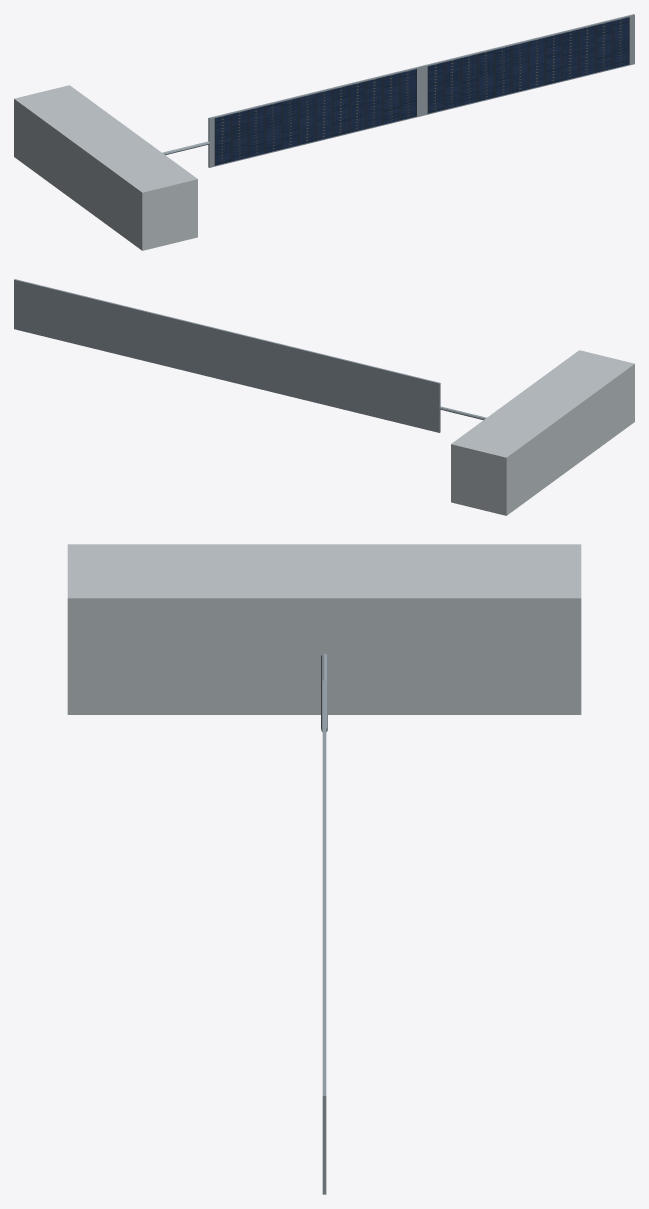
Rendered from ref-rassvet-2-68360.glb.
3 views of the same model, one above another, from view 1: azimuth 30°, elevation 25°; view 2: azimuth 150°, elevation 25°; view 3: azimuth 270°, elevation 25° (orthographic). The views are drawn at different scales.
Visible parts, largest first — view 1: Photovoltaic laminates (×2), Spacecraft body, Array frame (×2); view 2: Array frame (×2), Spacecraft body; view 3: Spacecraft body, Array frame (×2).
Part boxes in pixels (<box>): Photovoltaic laminates (×2): <box>214,17,629,165</box>; Spacecraft body: <box>14,85,197,250</box>; Array frame (×2): <box>208,14,634,167</box>; Array frame (×2): <box>14,279,440,432</box>; Spacecraft body: <box>451,350,634,515</box>; Spacecraft body: <box>67,544,581,714</box>; Array frame (×2): <box>322,680,326,1194</box>.
Bounding box in the file's own units: 10 × 1 × 4.
Materials: 3 (1 with a texture image).
